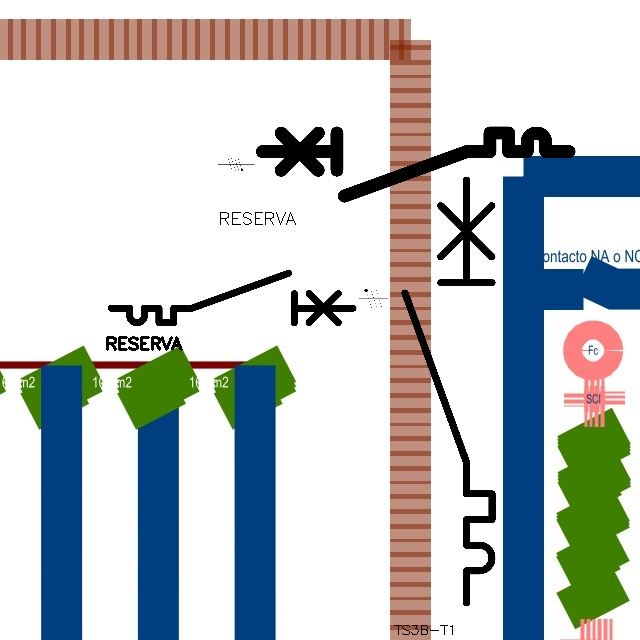interruptor_termomagnetico: (394, 169, 503, 614), (254, 125, 577, 204), (105, 267, 359, 329)
